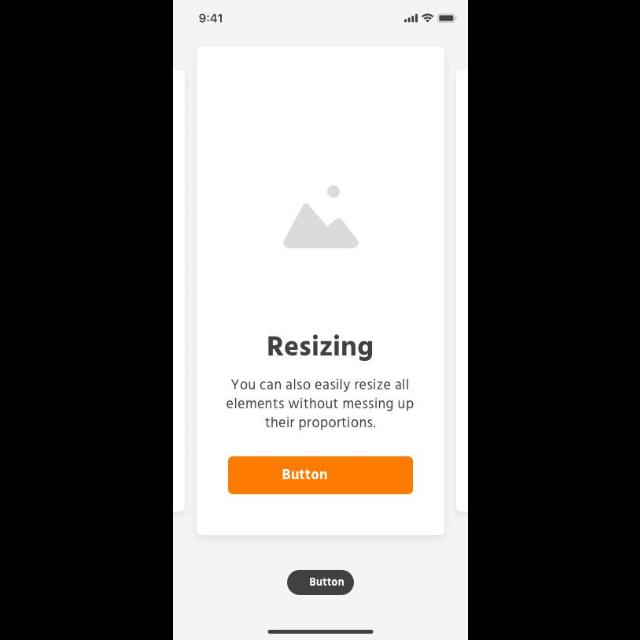image: (283, 185, 359, 249)
panel: (193, 44, 444, 536)
text: (227, 380, 413, 430), (268, 334, 372, 362)
textbutton: (228, 456, 414, 494), (288, 570, 354, 594)
uppertaskbar: (198, 12, 458, 24)
